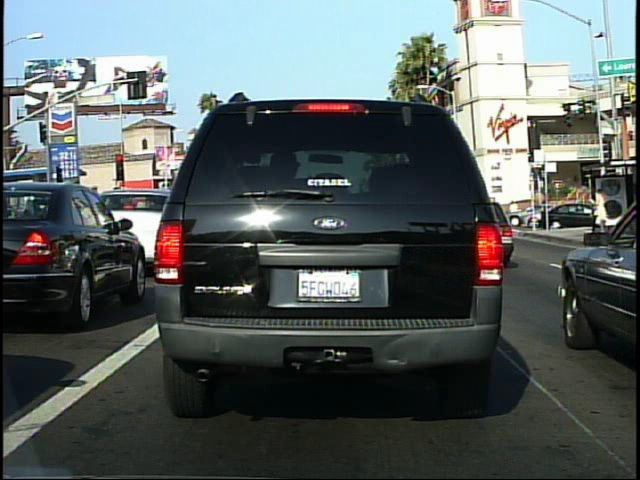person: (590, 183, 609, 236), (509, 198, 522, 226)
